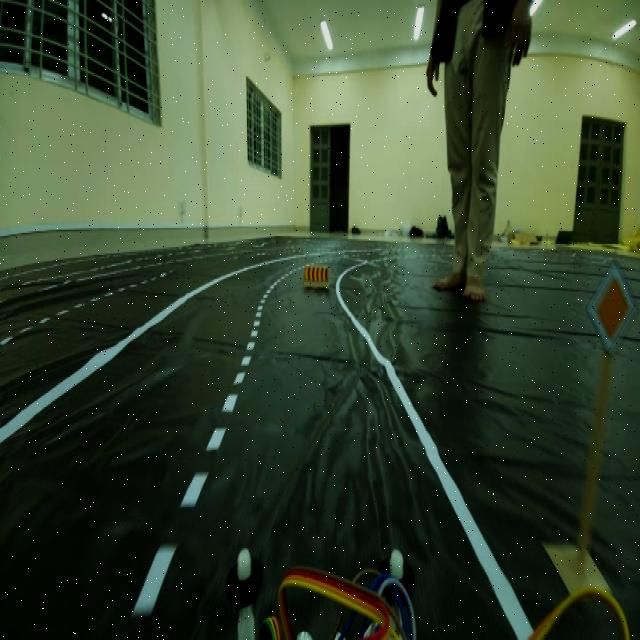priority: (582, 262, 634, 351)
roadblock: (297, 252, 331, 298)
